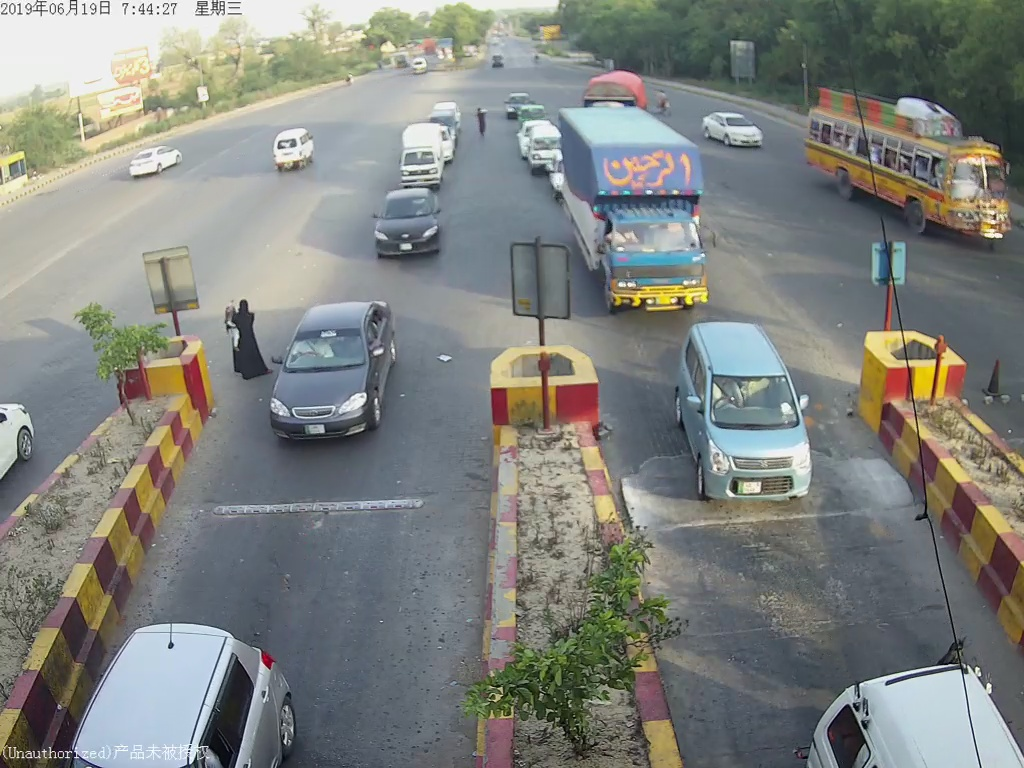Cat-1: (680, 331, 819, 507), (268, 305, 397, 441), (373, 188, 448, 258), (397, 125, 443, 183)
Cat-2: (563, 112, 719, 315)
